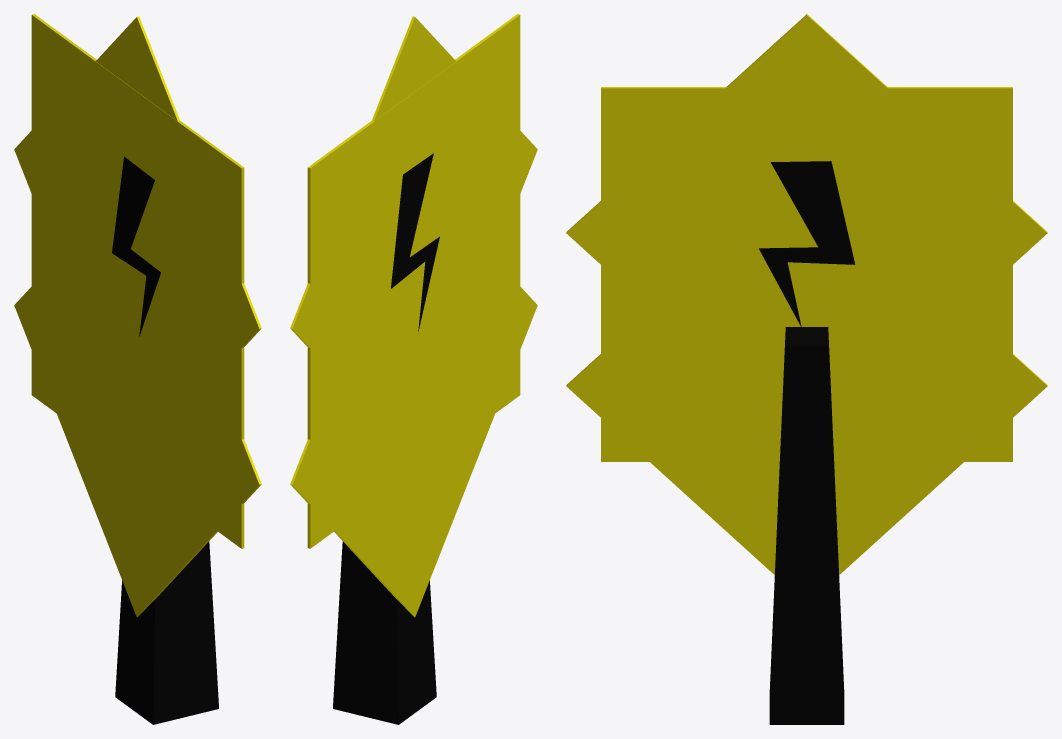
Rendered from Щиток.fbx.
3 views of the same model, side by side, from view 1: azimuth 30°, elevation 25°; view 2: azimuth 150°, elevation 25°; view 3: azimuth 270°, elevation 25° (orthographic).
Visible parts, largest first — view 1: Cube.001, Cube.002, Cube, Cube.003; view 2: Cube.001, Cube.002, Cube, Cube.003; view 3: Cube.001, Cube, Cube.002, Cube.003.
Boxes of the visible parts, x1,y1,x2,y2 form: Cube.001: [31, 14, 244, 548]; Cube.002: [14, 287, 261, 617]; Cube: [115, 541, 218, 724]; Cube.003: [14, 16, 261, 347]; Cube.001: [307, 14, 520, 548]; Cube.002: [290, 287, 537, 617]; Cube: [333, 541, 436, 724]; Cube.003: [290, 16, 537, 347]; Cube.001: [601, 87, 1012, 461]; Cube: [769, 327, 844, 724]; Cube.002: [566, 354, 1047, 574]; Cube.003: [566, 14, 1047, 264].
Bounding box in the file's own units: 36.26 × 365 × 234.
